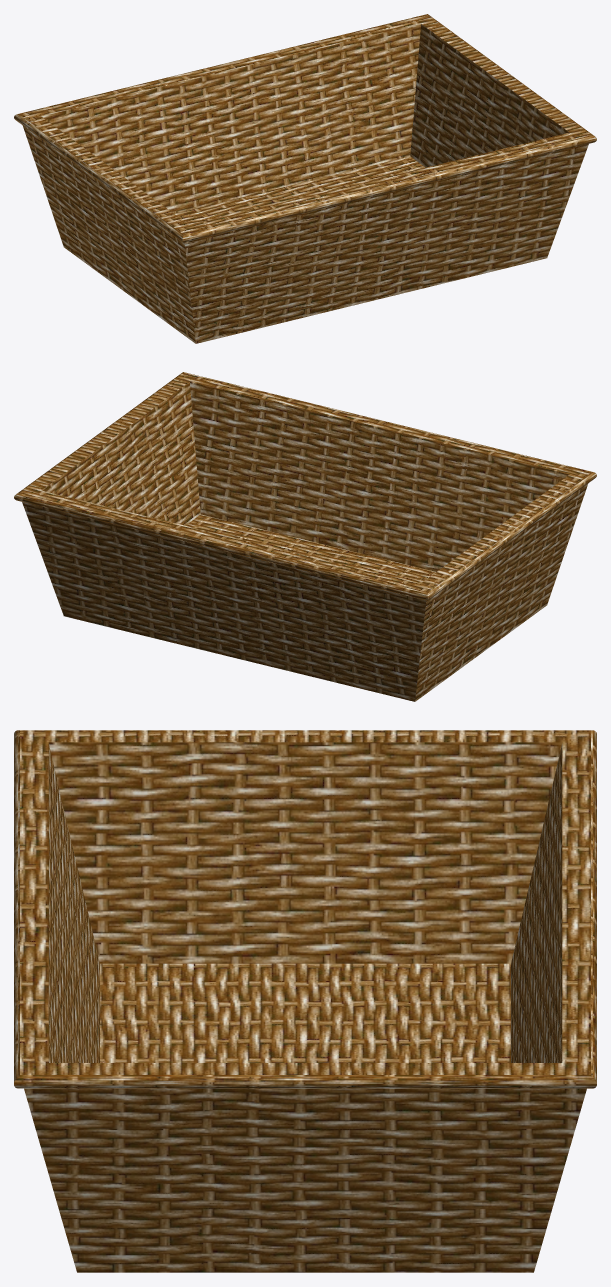
The model's file is basket.dae.
3 renders of one model, top to bottom at view 1: azimuth 30°, elevation 25°; view 2: azimuth 150°, elevation 25°; view 3: azimuth 270°, elevation 25°, orthographic. The views are drawn at different scales.
Visible parts, largest first — view 1: Component_306 (×2); view 2: Component_306 (×2); view 3: Component_306 (×2).
Boxes of the visible parts, x1,y1,x2,y2 form: Component_306 (×2): (14,14,596,343); Component_306 (×2): (14,372,596,701); Component_306 (×2): (14,730,596,1272).
Size of the model in its own units: 19.98 by 14.07 by 5.91.
